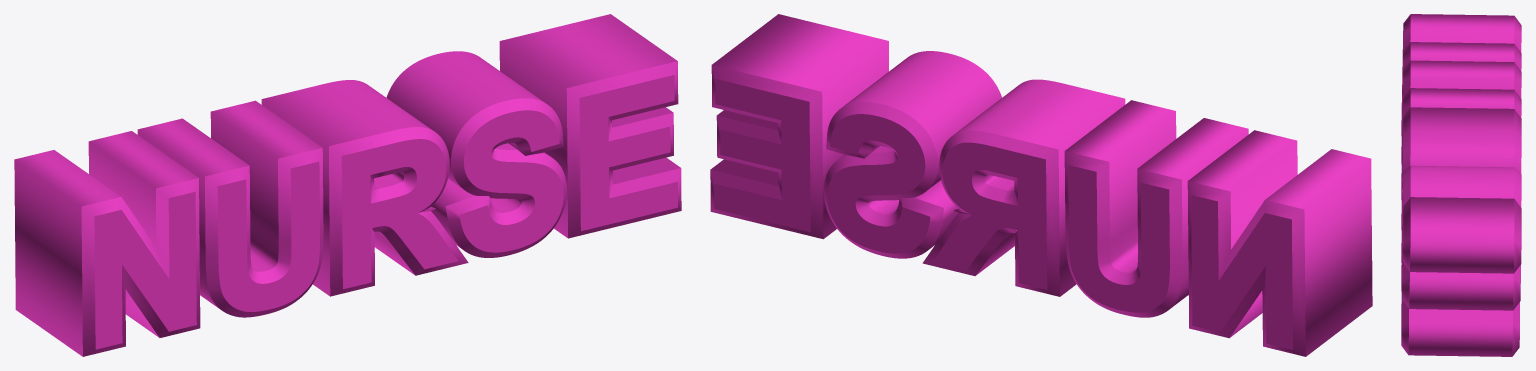
The model's file is nurse.fbx.
3 renders of one model, left to right at view 1: azimuth 30°, elevation 25°; view 2: azimuth 150°, elevation 25°; view 3: azimuth 270°, elevation 25°, orthographic. The views are drawn at different scales.
Visible parts, largest first — view 1: Text; view 2: Text; view 3: Text.
Part boxes in pixels (x1,y1,x2,y2): Text: [14, 14, 681, 356]; Text: [710, 14, 1372, 356]; Text: [1401, 14, 1521, 356].
Size of the model in its own units: 2.44 by 0.6072 by 0.5489.
